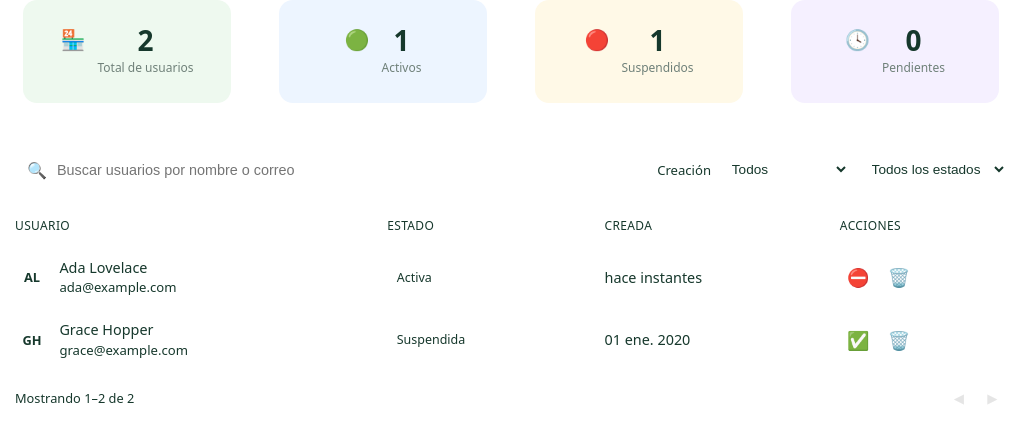
Test: panel de cuentas › filtra por fecha de creación sin confundirla con la última actividad
The width and height of the screenshot is (1021, 421).
Select "Última hora" in the dropdown named "Filtrar por fecha de creación" at (783, 170), box [717,153,849,186]
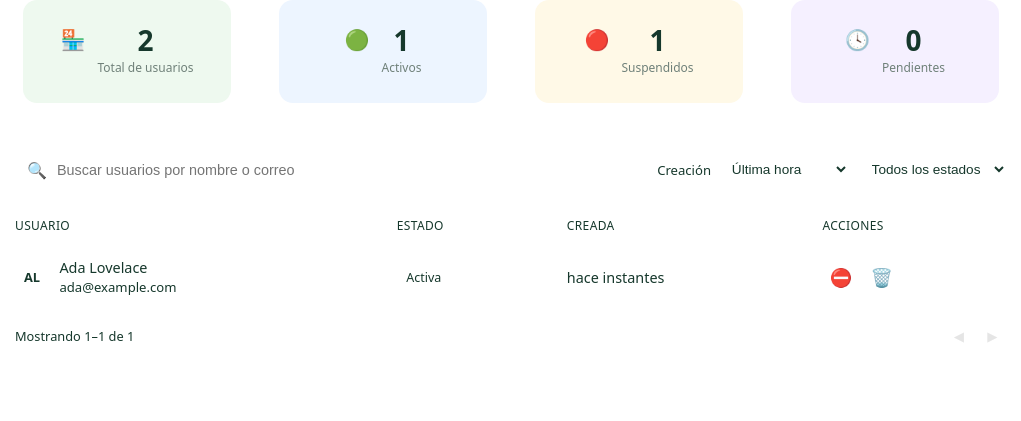
Expected: the text "Ada Lovelace" is shown, [59,258,148,277]
Now the text "Grace Hopper" is gone
